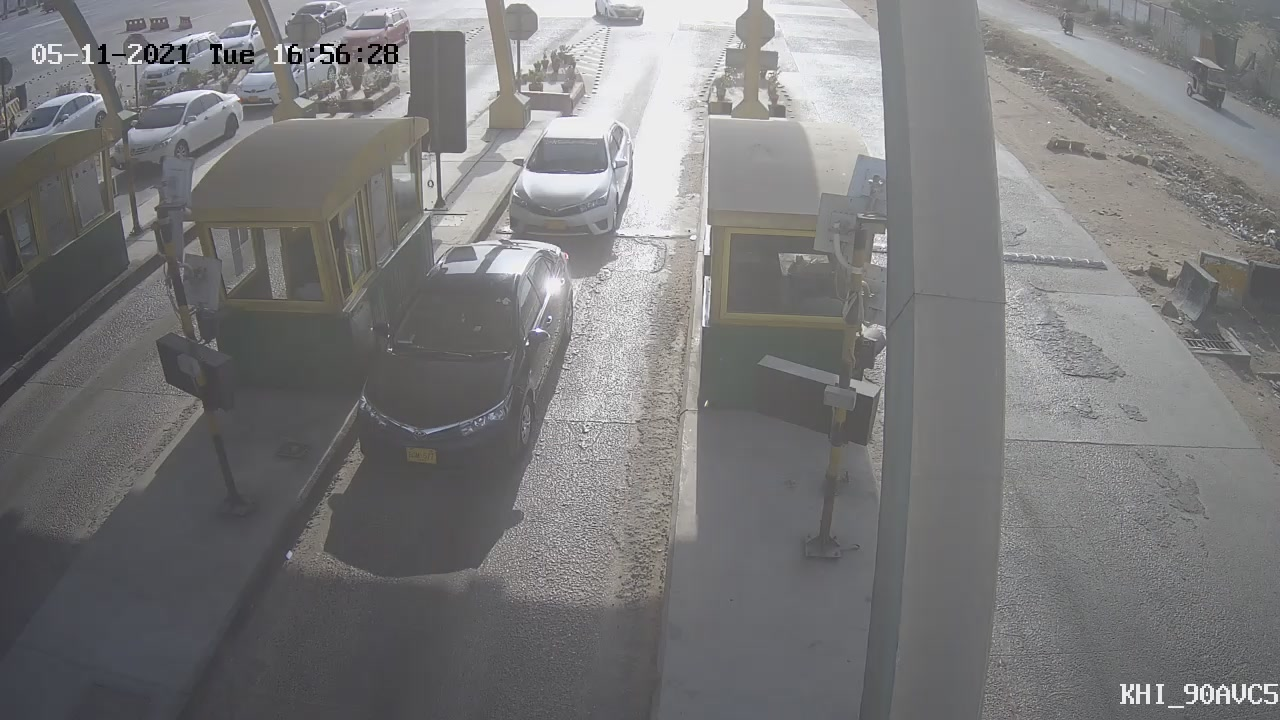F1: (334, 216, 594, 498), (487, 98, 650, 262)
